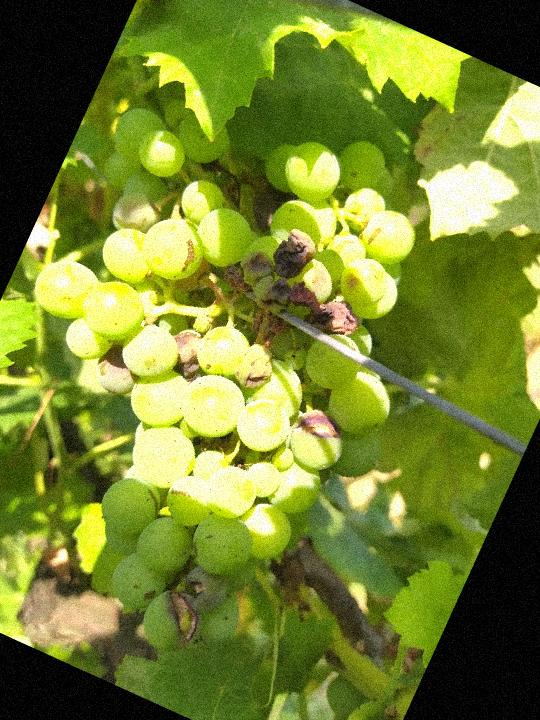grape: (0, 38, 498, 712)
